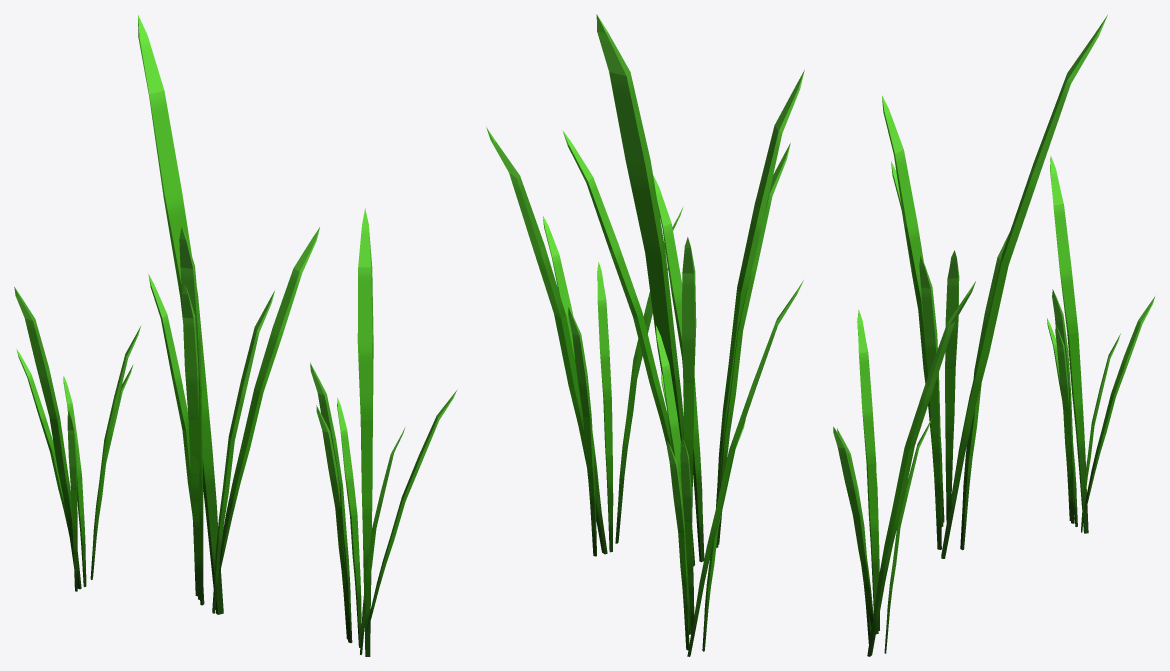
File: grass patches of 3.FBX
3 renders of one model, left to right at view 1: azimuth 30°, elevation 25°; view 2: azimuth 150°, elevation 25°; view 3: azimuth 270°, elevation 25°, orthographic. The views are drawn at different scales.
Visible parts, largest first — view 1: Box002, Box014, Box006, Box005, Box008, Box003, Box004, Box007, Box019, Box017, Box018, Box015 (+6 smaller); view 2: Box002, Box014, Box005, Box006, Box007, Box004, Box016, Box008, Box019, Box003, Box010, Box012 (+5 smaller); view 3: Box002, Box008, Box014, Box005, Box017, Box004, Box006, Box018, Box007, Box012, Box011, Box009 (+3 smaller).
Boxes of the visible parts, <box> form: Box002: <box>138,15,223,614</box>; Box014: <box>357,208,373,656</box>; Box006: <box>218,227,319,579</box>; Box005: <box>179,227,203,599</box>; Box008: <box>14,287,81,589</box>; Box003: <box>182,284,199,595</box>; Box004: <box>212,290,274,613</box>; Box007: <box>148,274,204,605</box>; Box019: <box>337,397,361,647</box>; Box017: <box>310,362,352,642</box>; Box018: <box>366,389,457,632</box>; Box015: <box>316,405,347,639</box>; Box002: <box>596,14,694,566</box>; Box014: <box>486,127,607,554</box>; Box005: <box>716,70,804,547</box>; Box006: <box>562,130,671,449</box>; Box007: <box>682,237,696,522</box>; Box004: <box>653,175,704,562</box>; Box016: <box>597,262,613,552</box>; Box008: <box>687,280,803,656</box>; Box019: <box>568,307,596,556</box>; Box003: <box>716,143,790,544</box>; Box010: <box>667,441,689,650</box>; Box012: <box>680,438,694,630</box>; Box002: <box>941,15,1107,558</box>; Box008: <box>1050,155,1088,533</box>; Box014: <box>867,281,975,656</box>; Box005: <box>882,95,943,526</box>; Box017: <box>857,309,878,634</box>; Box004: <box>919,256,941,549</box>; Box006: <box>945,250,959,524</box>; Box018: <box>833,426,873,627</box>; Box007: <box>960,232,1009,550</box>; Box012: <box>1084,296,1155,512</box>; Box011: <box>1052,289,1074,523</box>; Box009: <box>1055,325,1071,520</box>.
Bounding box in the file's own units: 30.16 × 50.08 × 24.92.
1 material, 1 textured.
